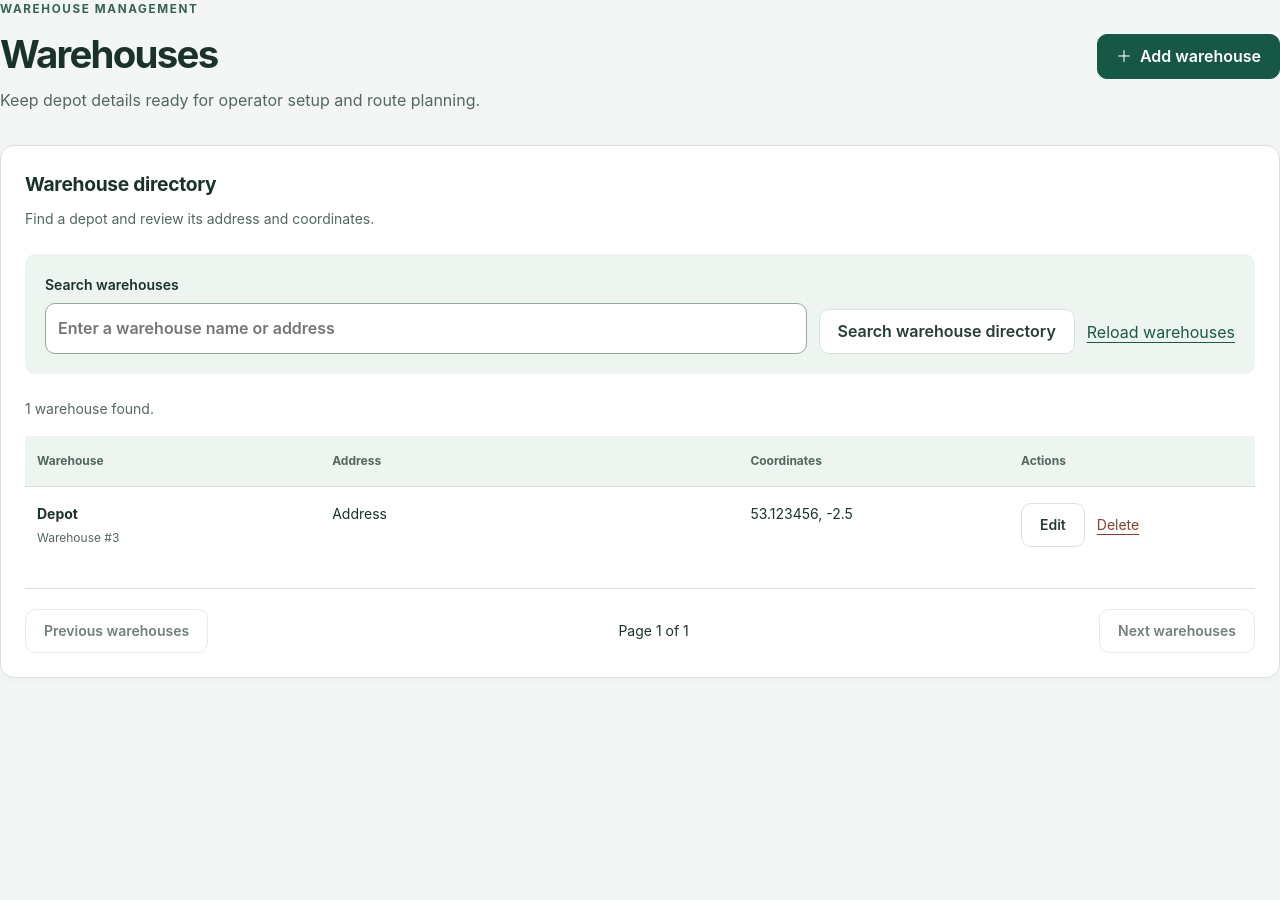
it: warehouse workflow › validates coordinate precision and never rounds an invalid draft
This screenshot has width=1280, height=900.
expect the button with aria-label "Edit warehouse #3" is shown: met, box top-left (1021, 503), bottom-right (1085, 547)
Click the button "＋ Add warehouse": (1188, 56) top-left (1097, 34), bottom-right (1279, 79)
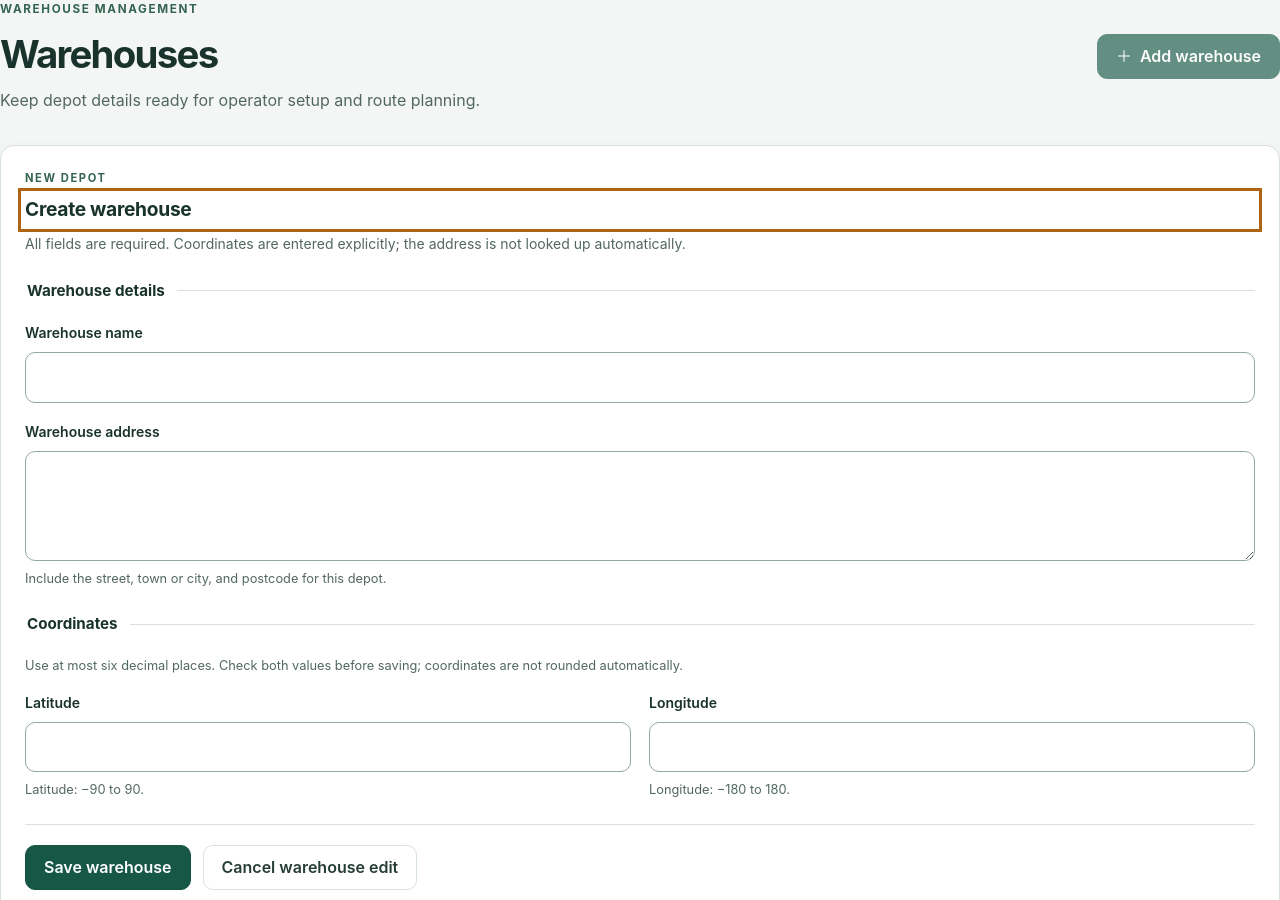
In the field labelled "Warehouse name": (640, 378) top-left (25, 352), bottom-right (1255, 403), type "New depot"
In the text box labelled "Warehouse address": (640, 506) top-left (25, 451), bottom-right (1255, 561), type "New address"
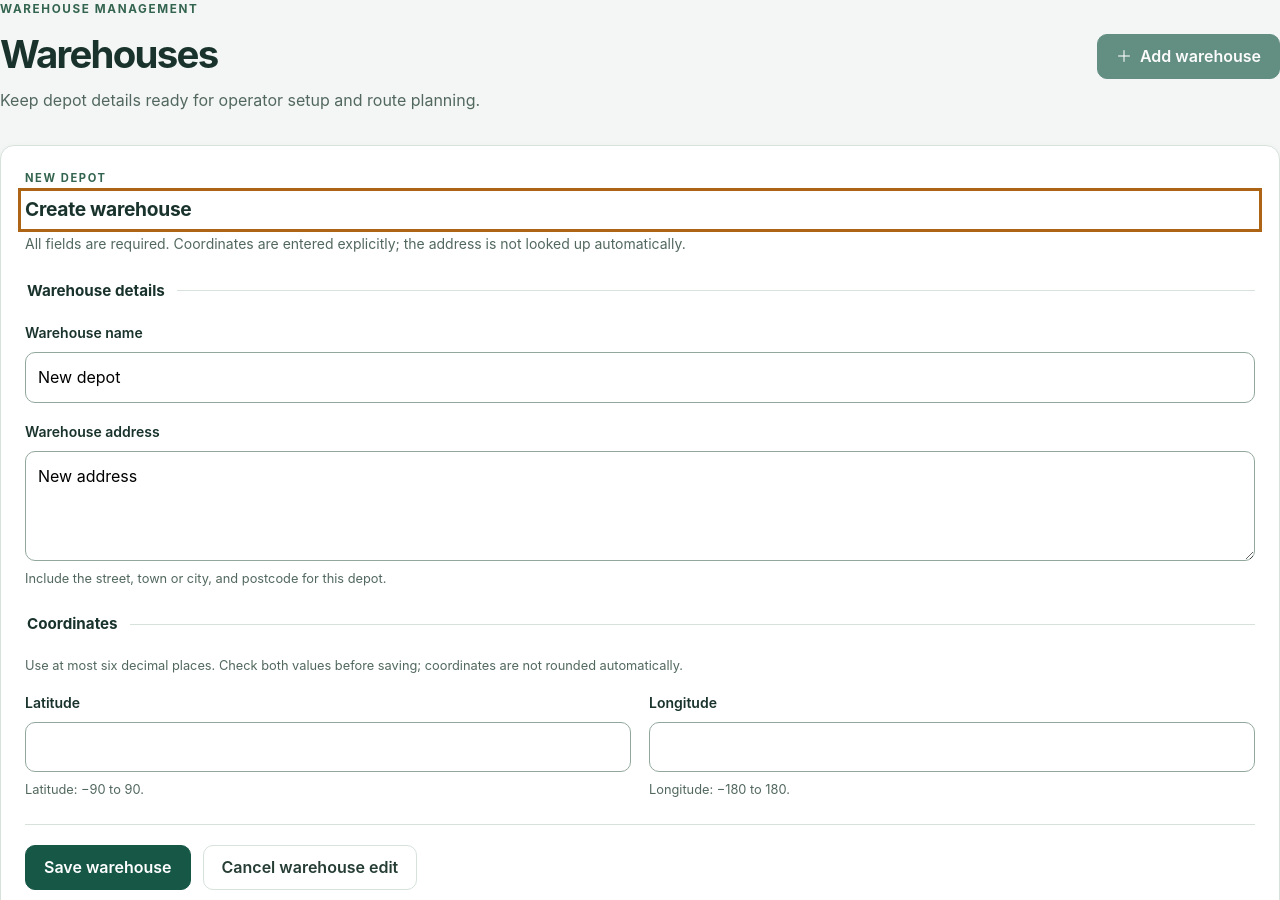
In the number field labelled "Latitude": (328, 747) top-left (25, 722), bottom-right (631, 772), type "0"
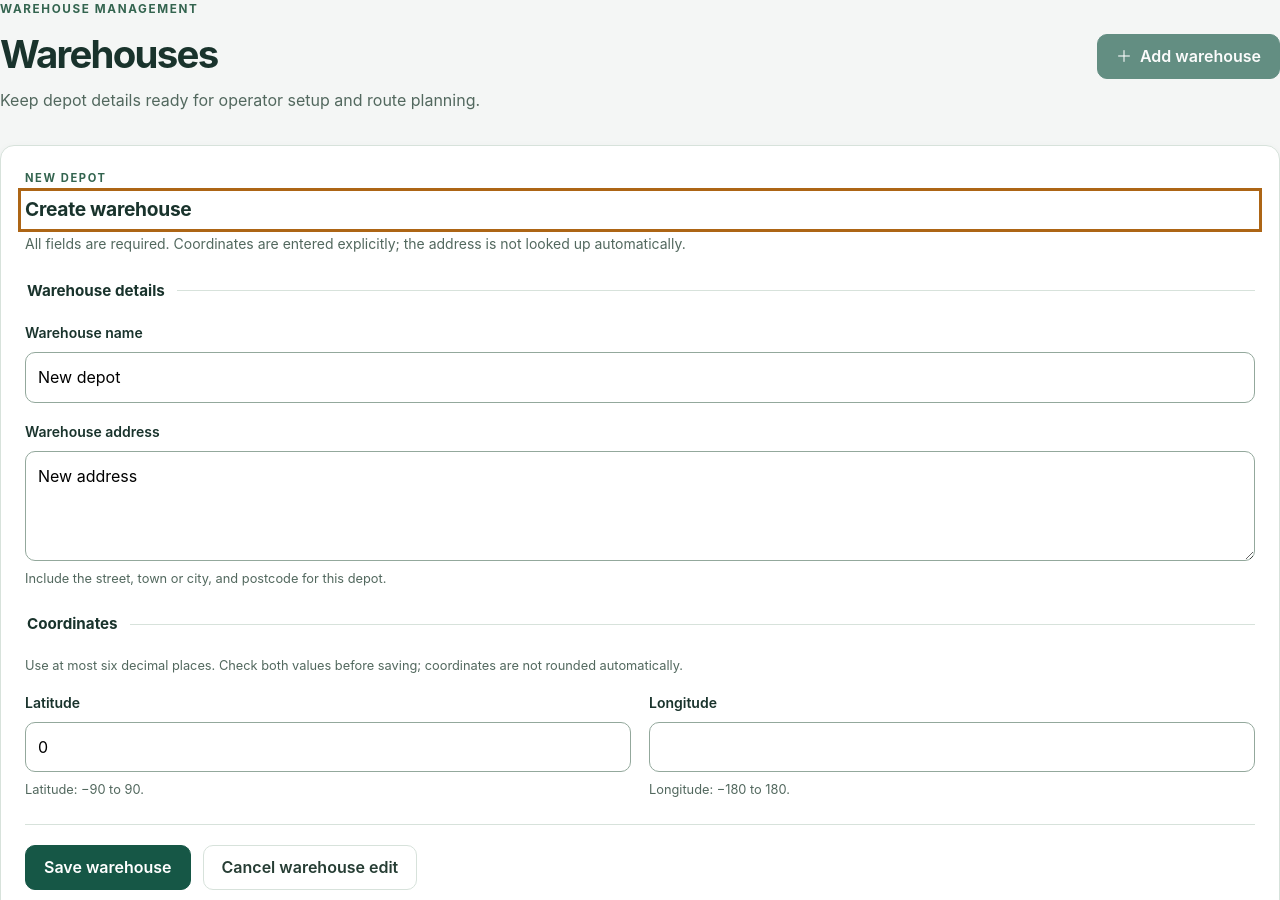
In the number field labelled "Longitude": (952, 747) top-left (649, 722), bottom-right (1255, 772), type "180"
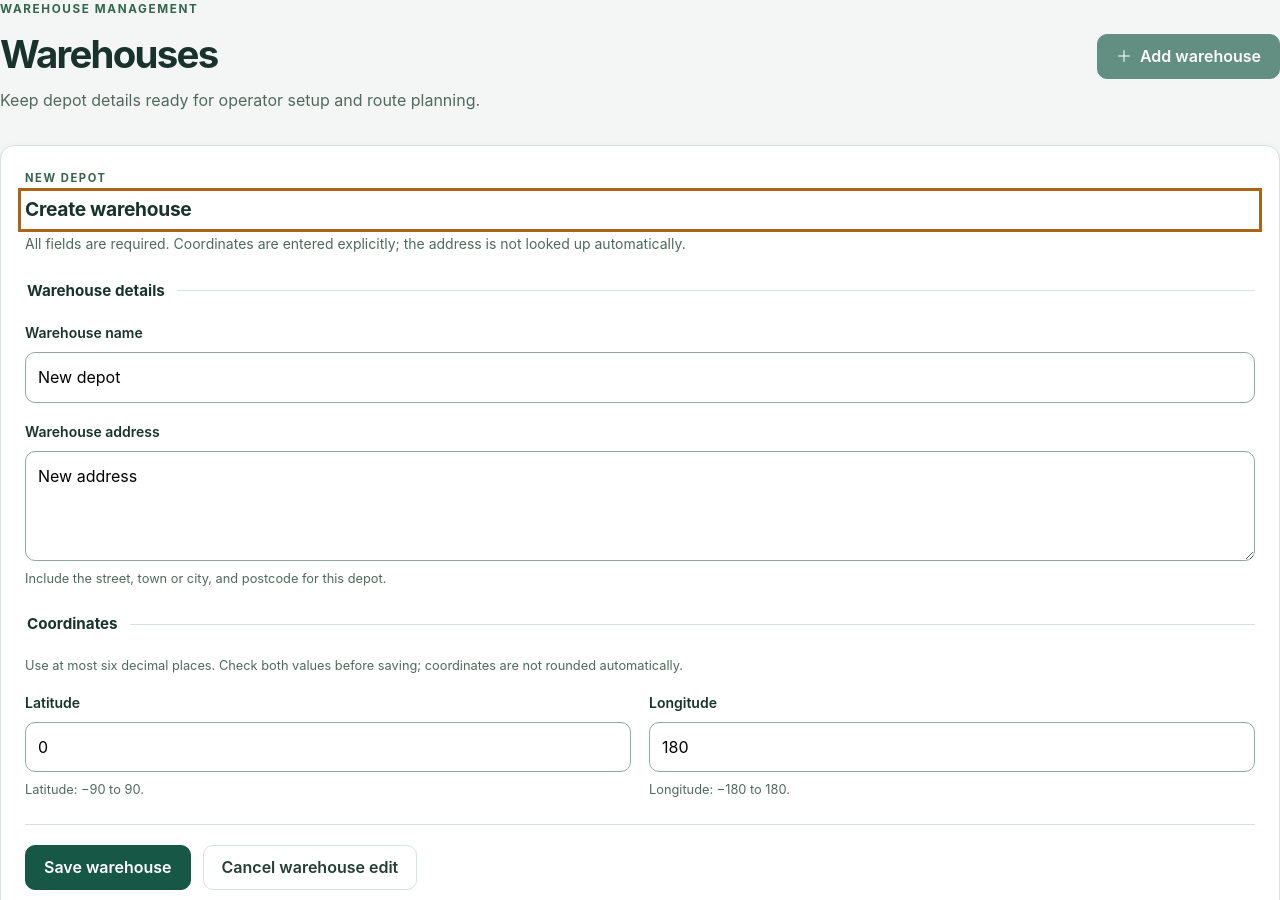
Replace the text in the number field labelled "Latitude" with "1.0000000000000000001": (328, 747) top-left (25, 722), bottom-right (631, 772)
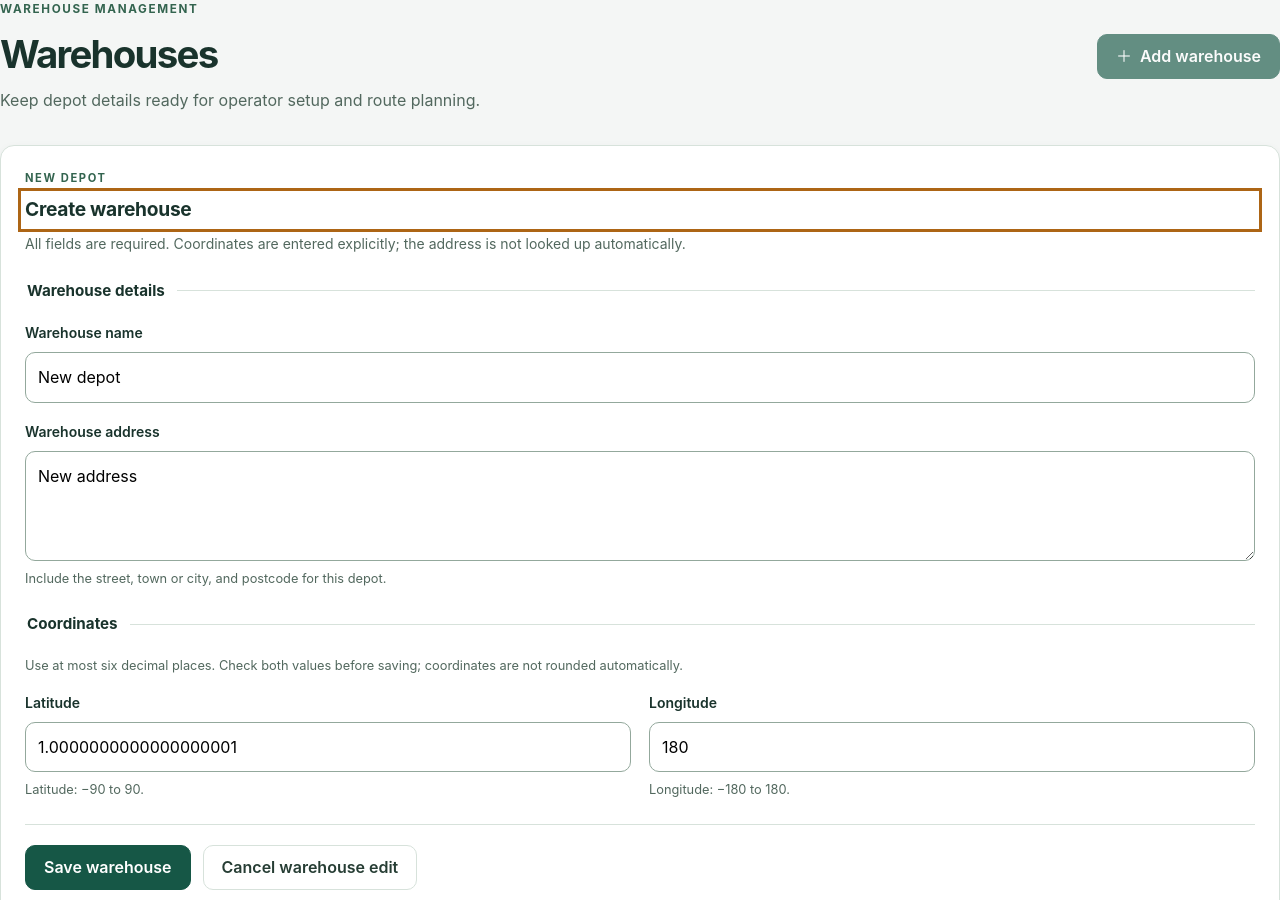
Submit the form named "Save warehouse"
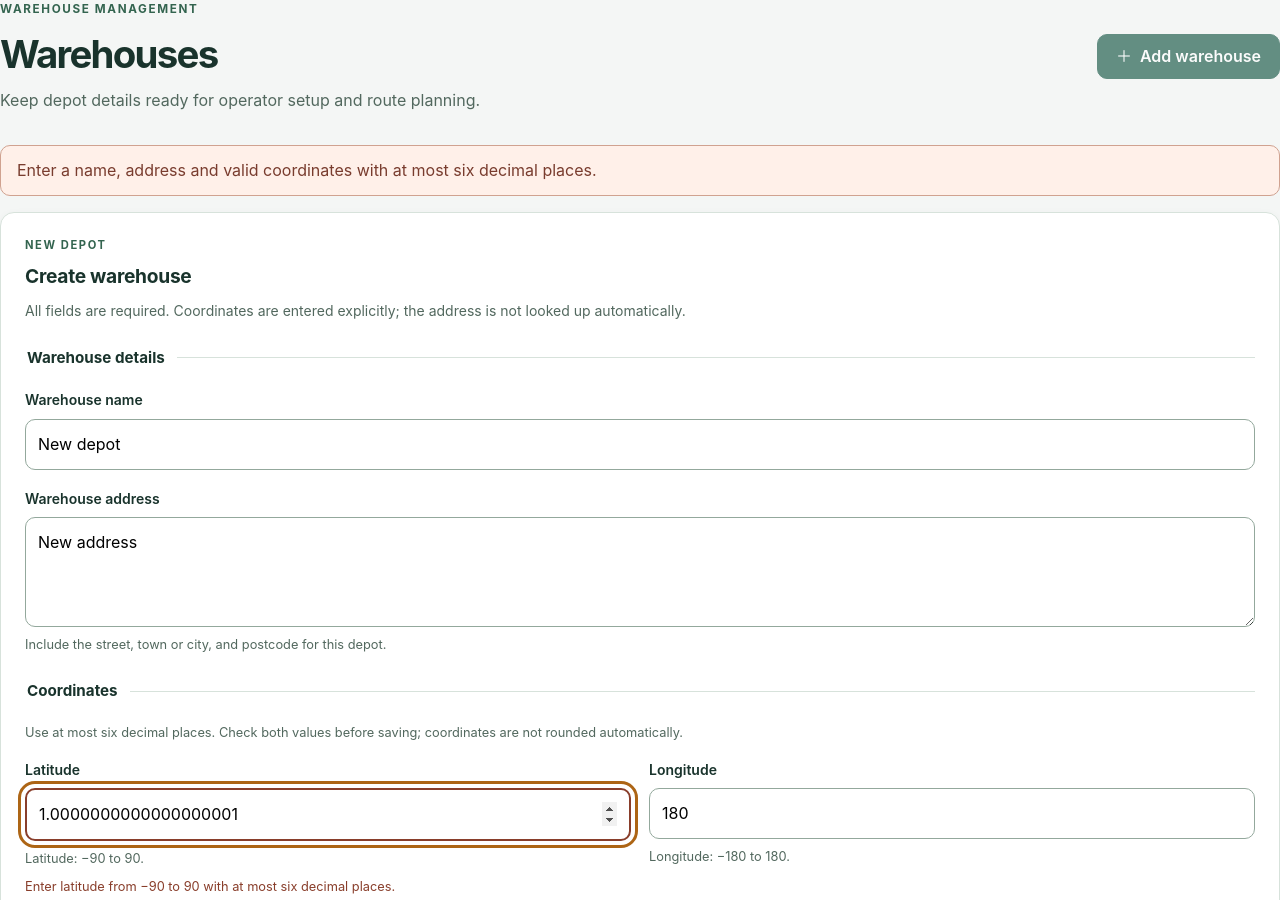
expect the message shows "six decimal places": met, box top-left (17, 160), bottom-right (597, 180)
